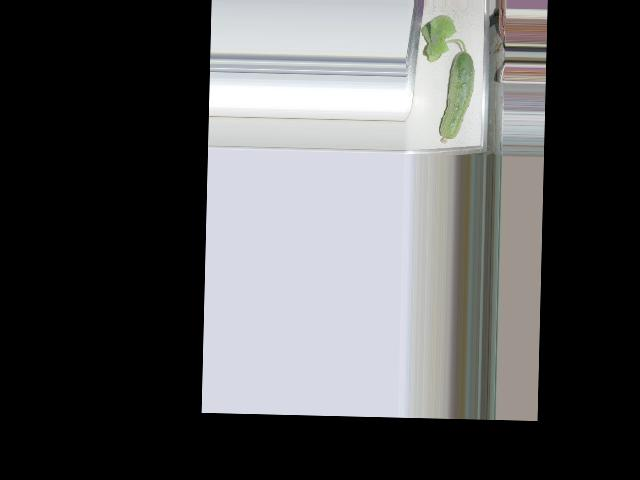cucumber: (439, 50, 474, 144)
